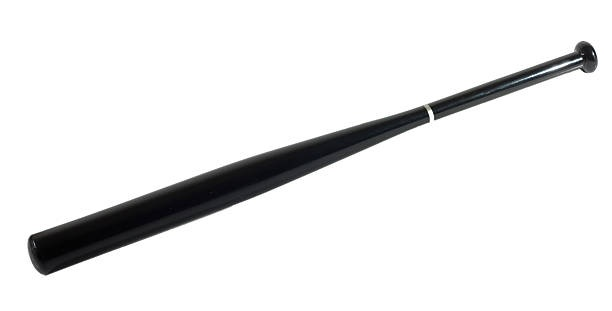bita: (23, 42, 595, 273)
